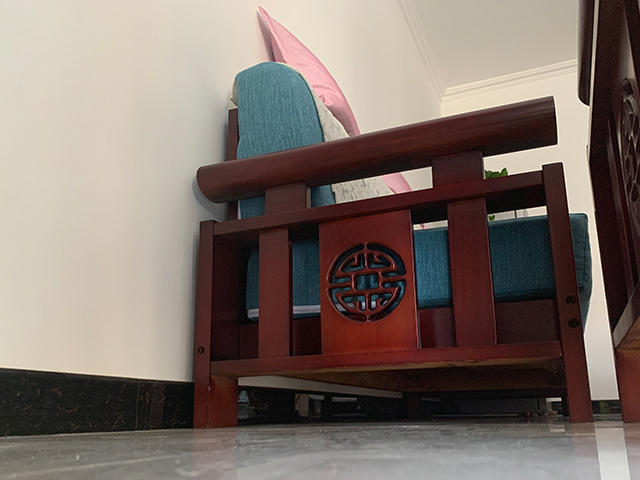sofa: (191, 4, 595, 430)
